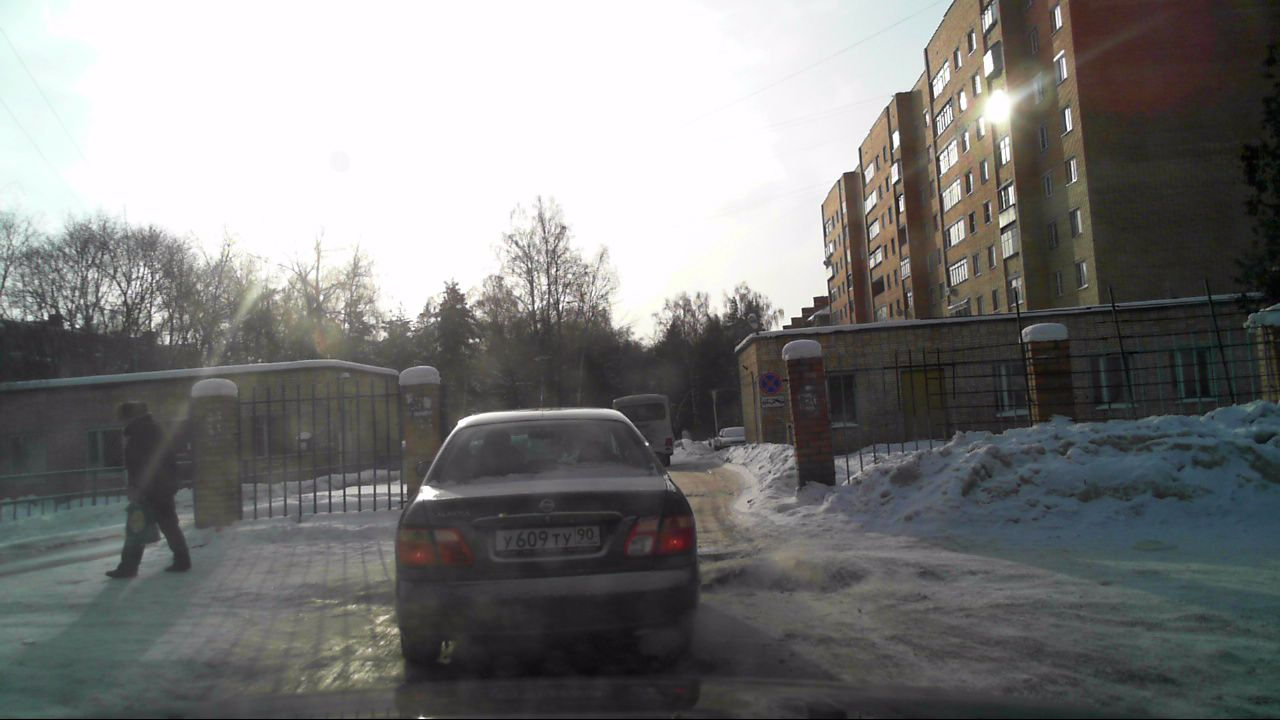No Parking: (758, 370, 782, 394)
